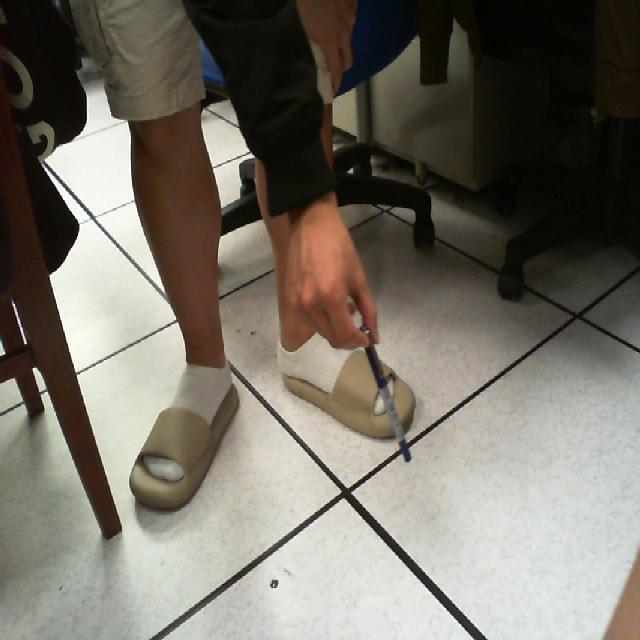Pen: (354, 316, 428, 494)
